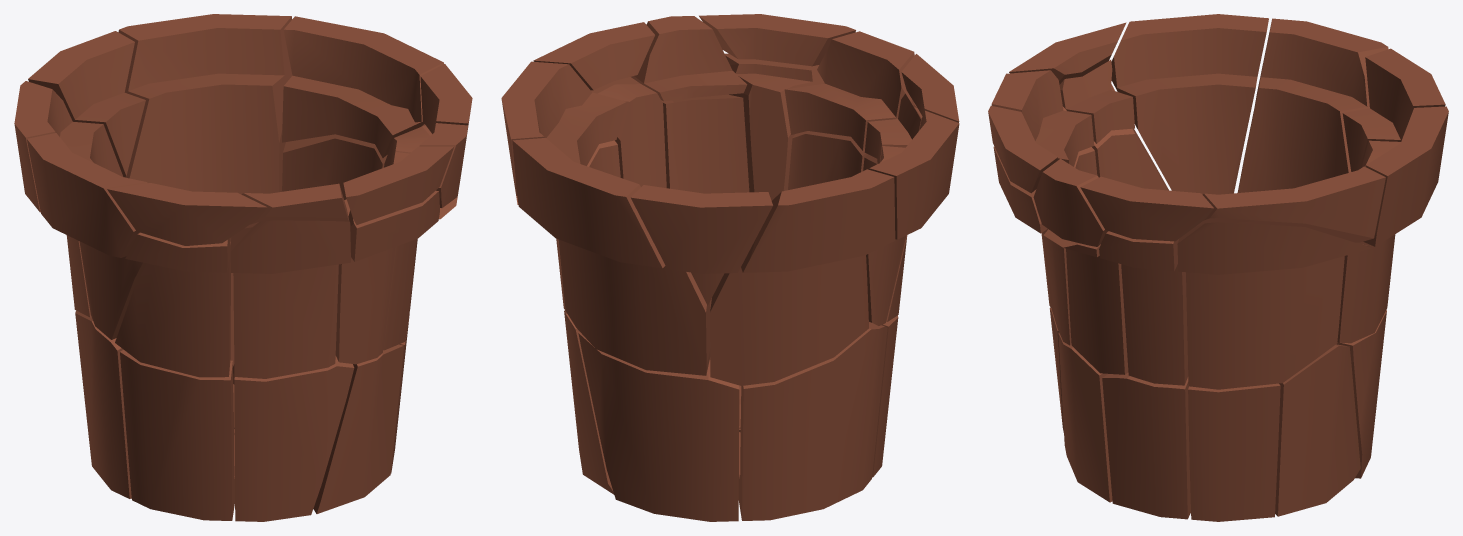
Rendered from decor_potshatter.fbx.
The picture shows the model from 3 angles, left to right: view 1: azimuth 30°, elevation 25°; view 2: azimuth 150°, elevation 25°; view 3: azimuth 270°, elevation 25°; orthographic projection.
Parts seen in each view (by area): view 1: pot_shatter_cell.016, pot_shatter_cell.022, pot_shatter_cell.020, pot_shatter_cell.018, pot_shatter_cell.003, pot_shatter_cell.007, pot_shatter_cell.013, pot_shatter_cell.019, pot_shatter_cell.009, pot_shatter_cell.015, pot_shatter_cell.014, pot_shatter_cell.011 (+8 smaller); view 2: pot_shatter_cell.010, pot_shatter_cell.016, pot_shatter_cell.023, pot_shatter_cell.011, pot_shatter_cell.015, pot_shatter_cell.012, pot_shatter_cell.018, pot_shatter_cell.013, pot_shatter_cell.017, pot_shatter_cell.019, pot_shatter_cell.008, pot_shatter_cell.002 (+9 smaller); view 3: pot_shatter_cell, pot_shatter_cell.013, pot_shatter_cell.010, pot_shatter_cell.021, pot_shatter_cell.004, pot_shatter_cell.016, pot_shatter_cell.006, pot_shatter_cell.005, pot_shatter_cell.018, pot_shatter_cell.017, pot_shatter_cell.015, pot_shatter_cell.009 (+10 smaller).
Boxes of the visible parts, x1,y1,x2,y2 form: pot_shatter_cell.016: (118,14,292,194); pot_shatter_cell.022: (230,220,350,378); pot_shatter_cell.020: (120,349,234,520); pot_shatter_cell.018: (282,16,443,157); pot_shatter_cell.003: (234,356,354,521); pot_shatter_cell.007: (115,232,230,377); pot_shatter_cell.013: (27,133,147,339); pot_shatter_cell.019: (335,190,439,364); pot_shatter_cell.009: (313,344,403,513); pot_shatter_cell.015: (28,31,145,176); pot_shatter_cell.014: (107,183,267,245); pot_shatter_cell.011: (75,310,234,498); pot_shatter_cell.010: (710,169,895,385); pot_shatter_cell.016: (512,138,710,375); pot_shatter_cell.023: (578,332,739,521); pot_shatter_cell.011: (738,322,887,520); pot_shatter_cell.015: (630,185,772,305); pot_shatter_cell.012: (784,31,914,150); pot_shatter_cell.018: (501,61,626,195); pot_shatter_cell.013: (866,110,959,325); pot_shatter_cell.017: (661,94,749,193); pot_shatter_cell.019: (725,53,824,200); pot_shatter_cell.008: (631,16,747,101); pot_shatter_cell.002: (699,14,855,66); pot_shatter_cell: (1177,222,1371,389); pot_shatter_cell.013: (1111,14,1268,194); pot_shatter_cell.010: (1237,18,1388,192); pot_shatter_cell.021: (1188,383,1280,521); pot_shatter_cell.004: (1275,344,1360,516); pot_shatter_cell.016: (1337,106,1448,343); pot_shatter_cell.006: (1102,372,1190,519); pot_shatter_cell.005: (1099,231,1188,385); pot_shatter_cell.018: (1195,166,1385,242); pot_shatter_cell.017: (1043,229,1128,374); pot_shatter_cell.015: (1342,48,1445,171); pot_shatter_cell.009: (1058,332,1112,502).
Size of the model in its own units: 25.56 by 21.2 by 25.57.
